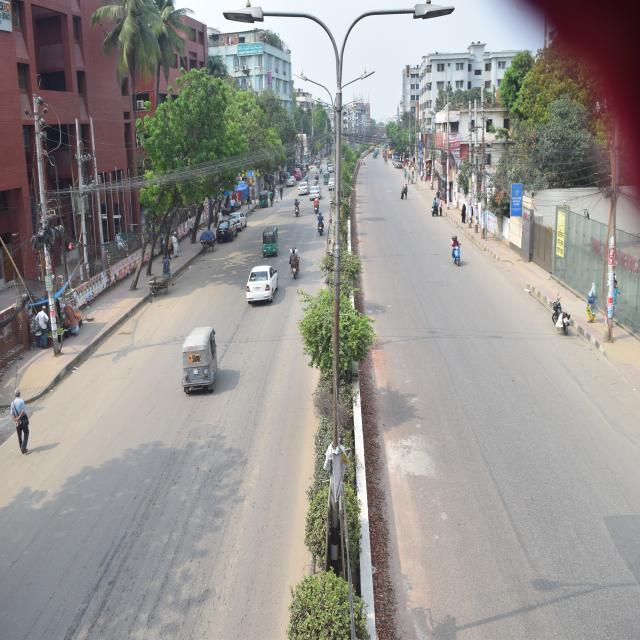car: (242, 258, 281, 310), (215, 212, 240, 245), (304, 185, 322, 201), (230, 211, 246, 226), (297, 182, 308, 195)
motorbike: (551, 290, 577, 336), (287, 240, 304, 284), (449, 235, 466, 267), (316, 209, 326, 236), (429, 202, 440, 219), (292, 198, 301, 216), (312, 198, 321, 215)
